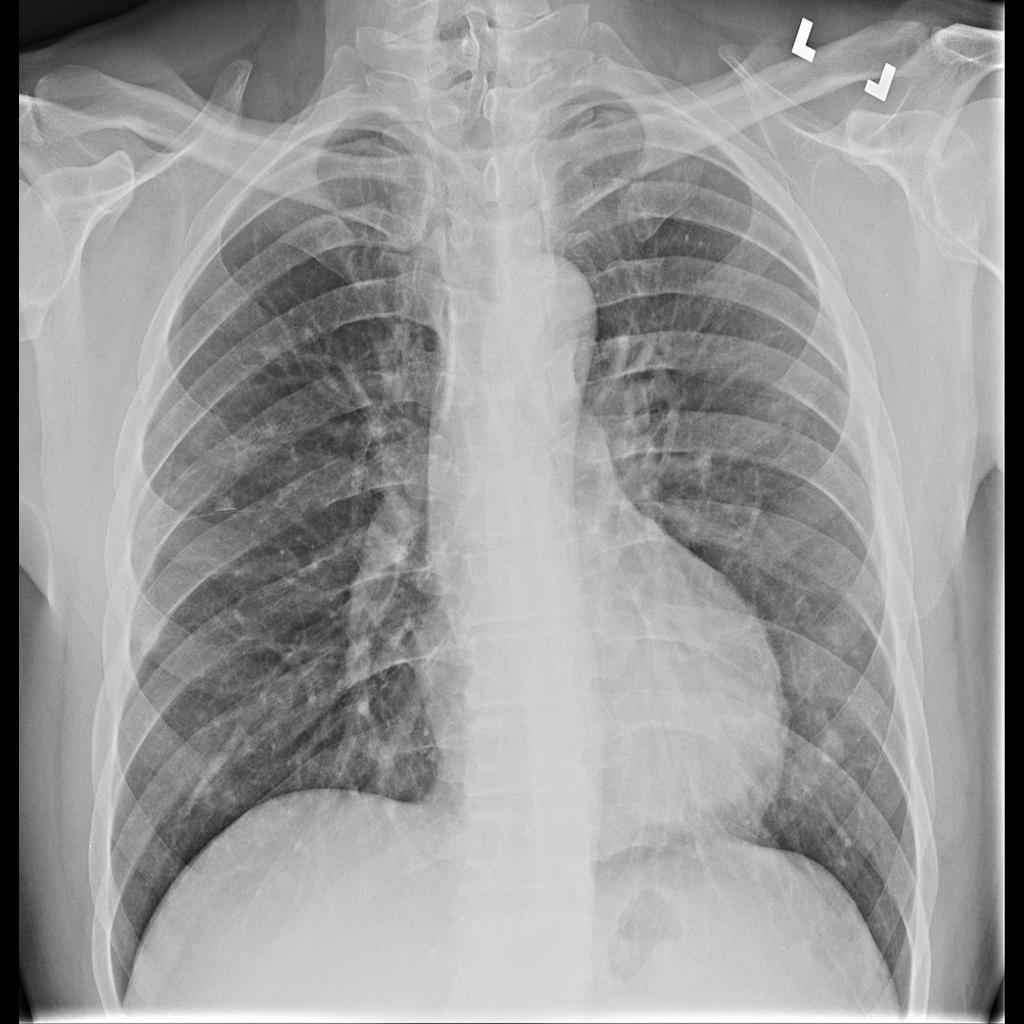Nodule: (813, 730, 849, 772)
